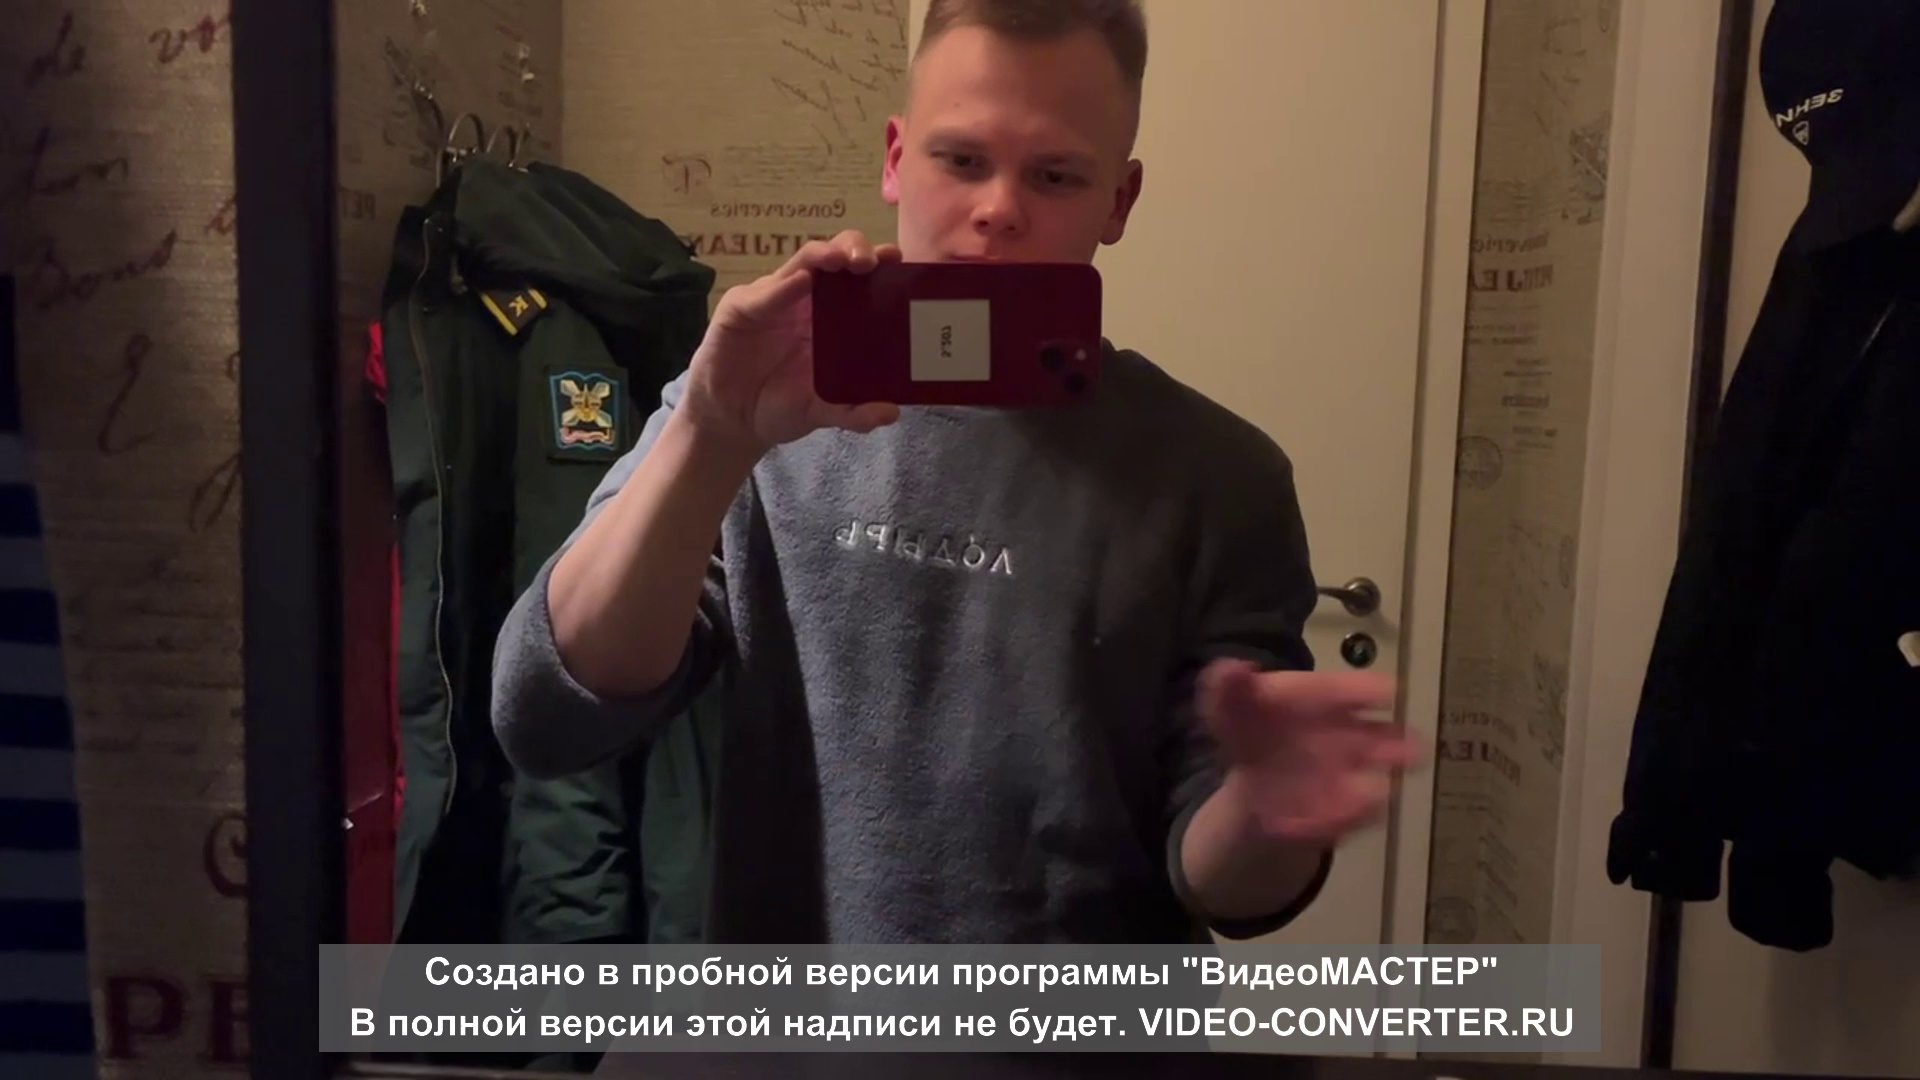Ладонь: (1197, 657, 1422, 844)
